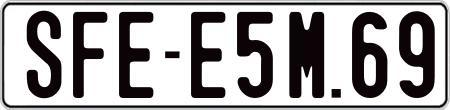5: (237, 12, 273, 102)
6: (351, 9, 389, 100)
9: (397, 10, 433, 98)
E: (116, 12, 155, 102), (190, 9, 230, 95)
F: (73, 10, 112, 96)
M: (288, 10, 324, 99)
S: (24, 8, 60, 97)
